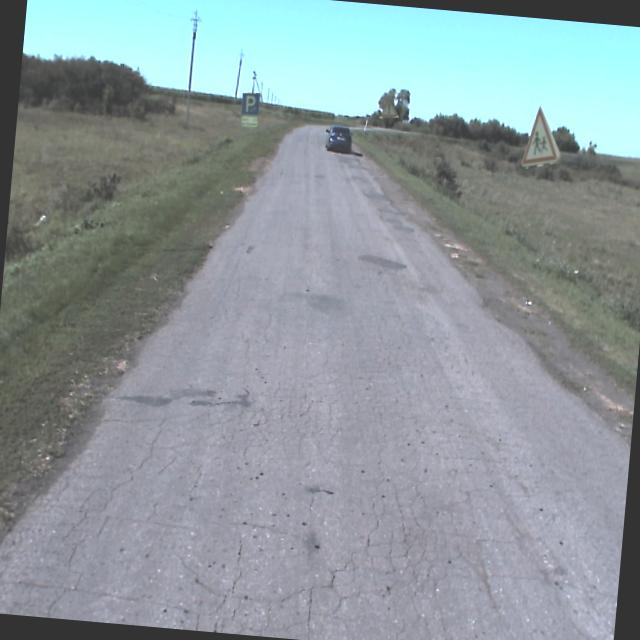road: (0, 124, 629, 640)
